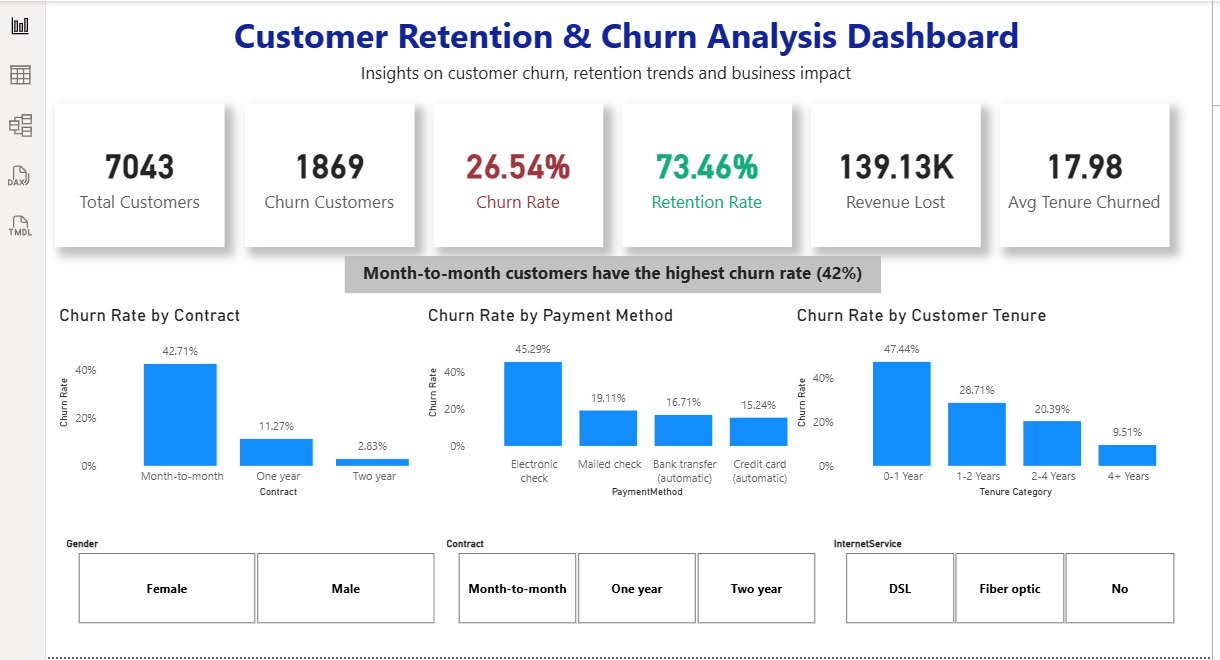

What the dashboard file says about the page in this screenshot:
{"tool":"powerbi","page":{"name":"Page 1","canvas":[1280,720],"ordinal":0},"visuals":[{"type":"textbox","box":[9.6,0,1128,279.9],"z":0},{"type":"textbox","box":[50.8,60.4,1128,41.2],"z":1000},{"type":"card","fields":{"Values":["ChurnData.Total Customers"]},"box":[9.6,112.5,186.6,157.8],"z":2000},{"type":"card","fields":{"Values":["ChurnData.Churn Customers"]},"box":[217.6,112.5,186,157.8],"z":3000},{"type":"card","fields":{"Values":["ChurnData.Churn Rate"]},"box":[424.9,112.5,186,157.8],"z":4000},{"type":"card","fields":{"Values":["ChurnData.Retention Rate"]},"box":[632.3,112.5,186,157.8],"z":5000},{"type":"card","fields":{"Values":["ChurnData.Revenue Lost"]},"box":[839.6,112.5,186,157.8],"z":6000},{"type":"card","fields":{"Values":["ChurnData.Avg Tenure Churned"]},"box":[1047,112.5,186,157.8],"z":7000},{"type":"clusteredColumnChart","title":"Churn Rate by Contract","fields":{"Category":["ChurnData.Contract"],"Y":["ChurnData.Churn Rate"]},"box":[9.6,333.4,440.5,216.8],"z":8000},{"type":"clusteredColumnChart","title":"Churn Rate by Payment Method","fields":{"Category":["ChurnData.PaymentMethod"],"Y":["ChurnData.Churn Rate"]},"box":[414.4,333.4,440.5,216],"z":9000},{"type":"clusteredColumnChart","title":"Churn Rate by Customer Tenure","fields":{"Category":["ChurnData.Tenure Category"],"Y":["ChurnData.Churn Rate"]},"box":[819.2,333.4,440.5,216.8],"z":10000},{"type":"slicer","fields":{"Values":["ChurnData.gender"]},"box":[9.6,584.6,440.5,105.7],"z":11000},{"type":"slicer","fields":{"Values":["ChurnData.Contract"]},"box":[426.8,584.6,441.9,105.7],"z":12000},{"type":"slicer","fields":{"Values":["ChurnData.InternetService"]},"box":[852.1,584.6,410.3,105.7],"z":13000},{"type":"textbox","box":[328,279.9,588.7,41.2],"z":14000}]}

Visuals, with their boxes on the page's 1280x720 design canvas (x1, y1, x2, y2). These are canvas units, not pixel positions in the 1220x660 screenshot, which may show the page scaled, cropped or inside an application window:
textbox: x1=10, y1=0, x2=1138, y2=280
textbox: x1=51, y1=60, x2=1179, y2=102
card - ChurnData.Total Customers: x1=10, y1=112, x2=196, y2=270
card - ChurnData.Churn Customers: x1=218, y1=112, x2=404, y2=270
card - ChurnData.Churn Rate: x1=425, y1=112, x2=611, y2=270
card - ChurnData.Retention Rate: x1=632, y1=112, x2=818, y2=270
card - ChurnData.Revenue Lost: x1=840, y1=112, x2=1026, y2=270
card - ChurnData.Avg Tenure Churned: x1=1047, y1=112, x2=1233, y2=270
"Churn Rate by Contract" clusteredColumnChart: x1=10, y1=333, x2=450, y2=550
"Churn Rate by Payment Method" clusteredColumnChart: x1=414, y1=333, x2=855, y2=549
"Churn Rate by Customer Tenure" clusteredColumnChart: x1=819, y1=333, x2=1260, y2=550
slicer - ChurnData.gender: x1=10, y1=585, x2=450, y2=690
slicer - ChurnData.Contract: x1=427, y1=585, x2=869, y2=690
slicer - ChurnData.InternetService: x1=852, y1=585, x2=1262, y2=690
textbox: x1=328, y1=280, x2=917, y2=321
